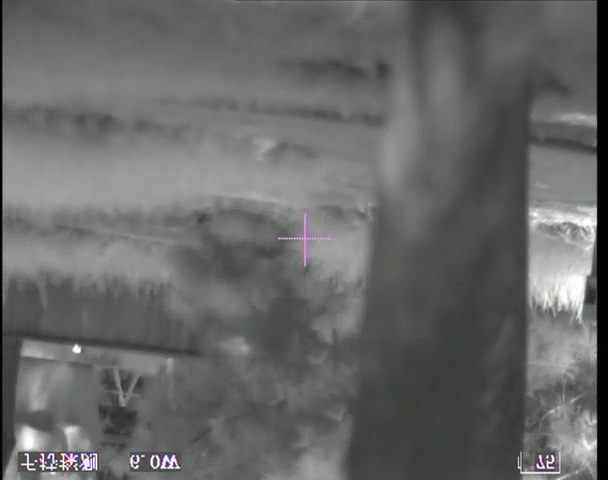my: (71, 343, 82, 354)
